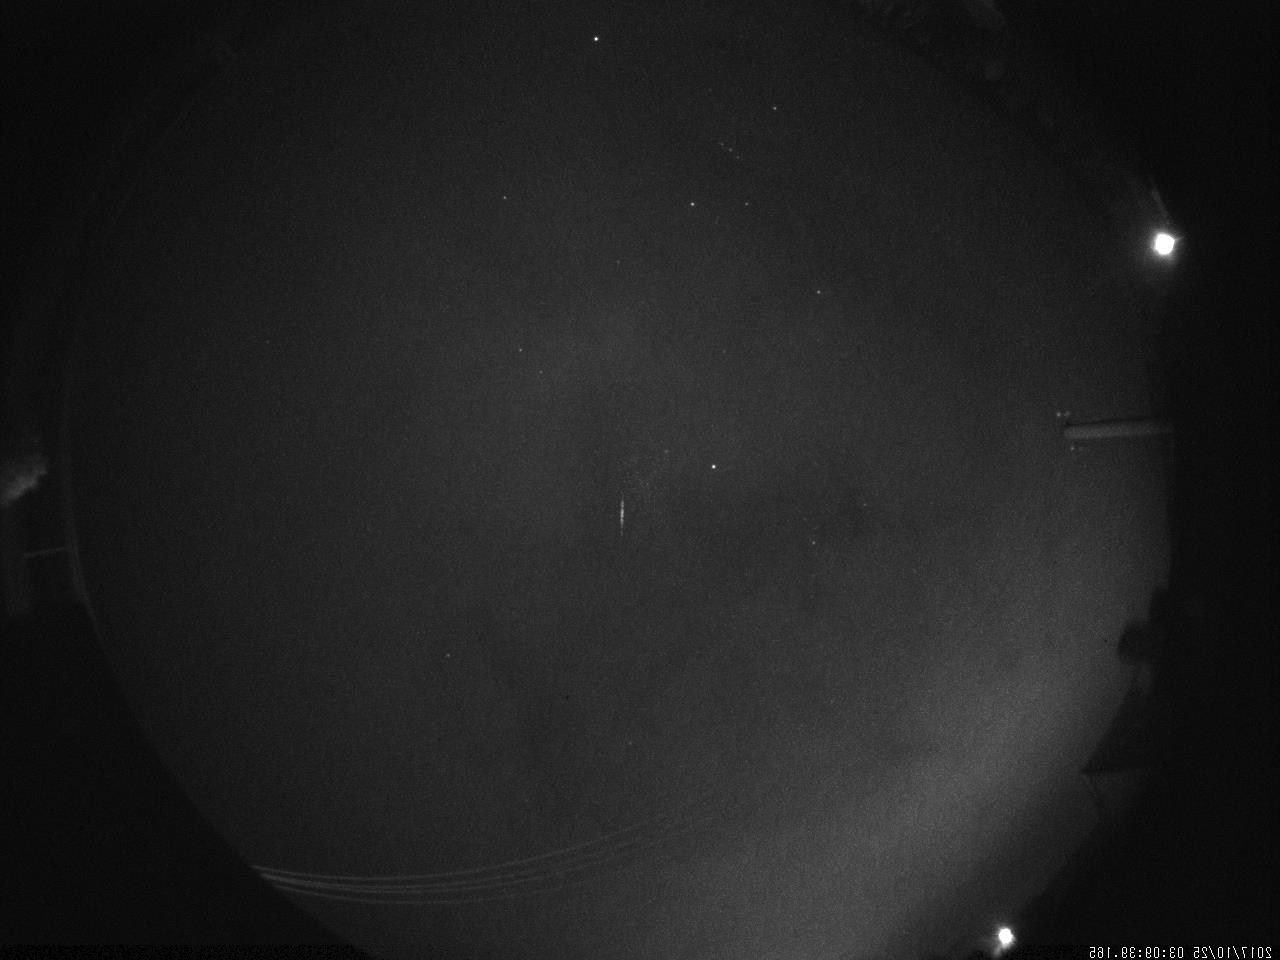meteor: (610, 491, 632, 537)
